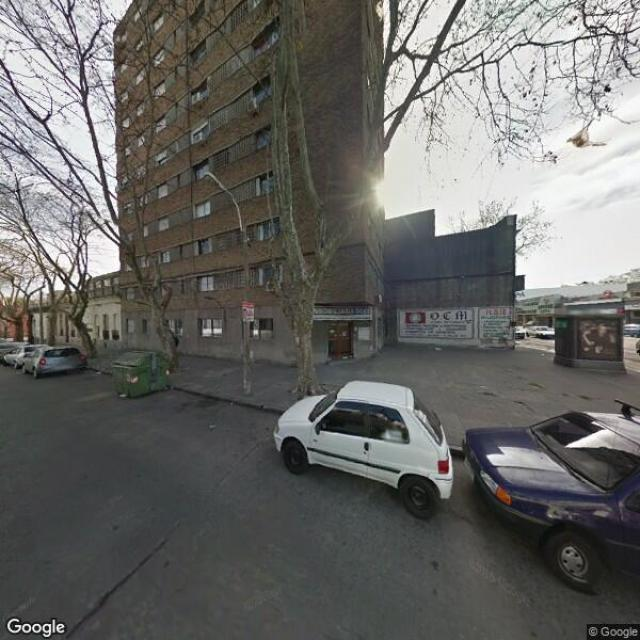garbage container: (104, 345, 184, 409)
